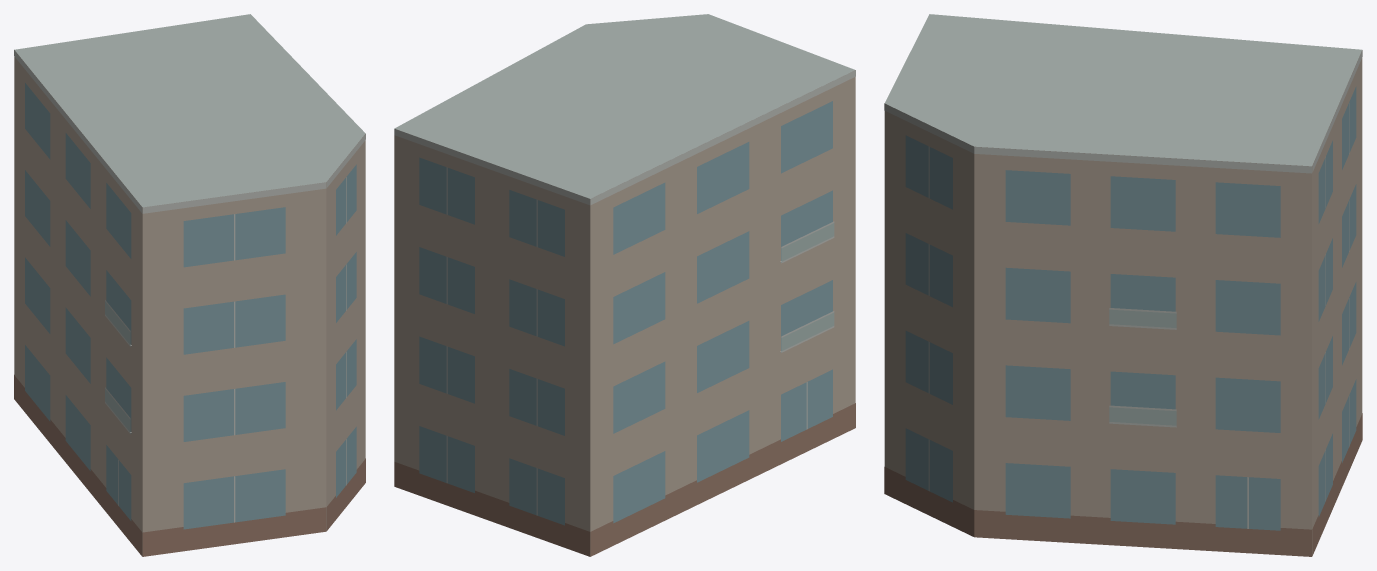
The model's file is survey-upis-32808774.glb.
The picture shows the model from 3 angles, left to right: view 1: azimuth 30°, elevation 25°; view 2: azimuth 150°, elevation 25°; view 3: azimuth 270°, elevation 25°; orthographic projection. The views are drawn at different scales.
Visible parts, largest first — view 1: survey-upis-32808774.tmp; view 2: survey-upis-32808774.tmp; view 3: survey-upis-32808774.tmp.
Boxes of the visible parts, x1=… form: survey-upis-32808774.tmp: x1=14, y1=14, x2=365, y2=556; survey-upis-32808774.tmp: x1=394, y1=14, x2=855, y2=556; survey-upis-32808774.tmp: x1=884, y1=14, x2=1362, y2=556.
Size of the model in its own units: 11.1 by 13.26 by 14.71.
